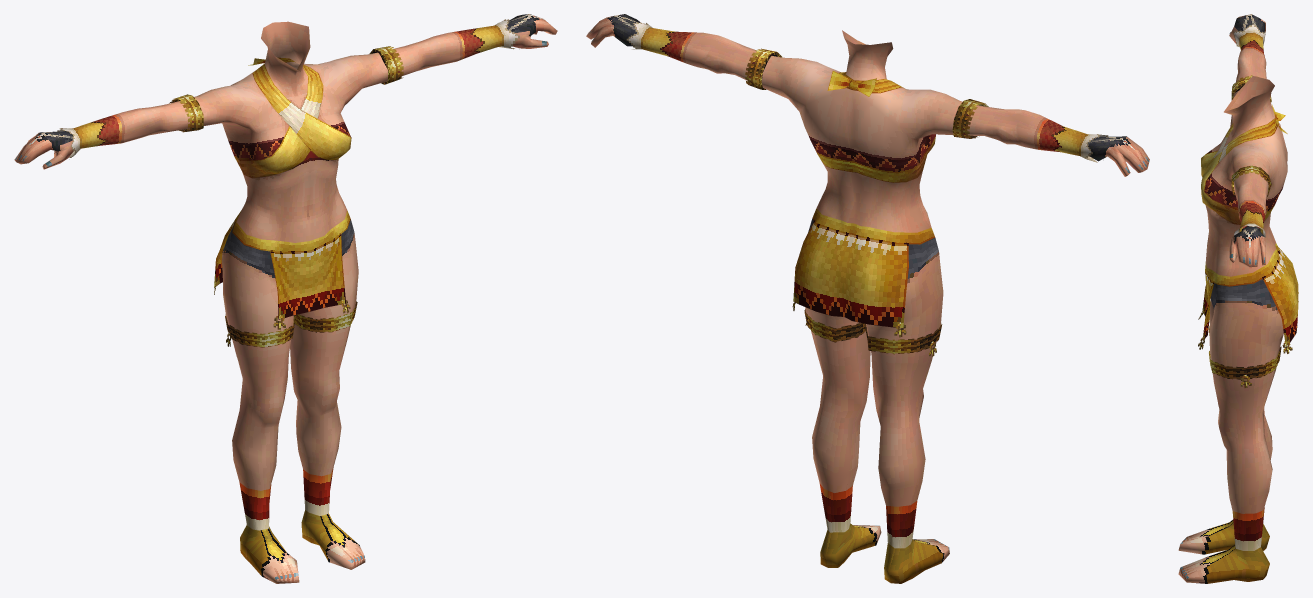
The model's file is f_body010.obj.
3 renders of one model, left to right at view 1: azimuth 30°, elevation 25°; view 2: azimuth 150°, elevation 25°; view 3: azimuth 270°, elevation 25°, orthographic. The views are drawn at different scales.
Visible parts, largest first — view 1: editpl_f-0000-56, editpl_f-0000-55, editpl_f-0000-54; view 2: editpl_f-0000-56, editpl_f-0000-55, editpl_f-0000-54; view 3: editpl_f-0000-56, editpl_f-0000-55, editpl_f-0000-54.
Boxes of the visible parts, box(x1,y1,x2,y2) form: editpl_f-0000-56: box(214, 210, 365, 583); editpl_f-0000-55: box(194, 21, 387, 242); editpl_f-0000-54: box(14, 14, 557, 169); editpl_f-0000-56: box(792, 208, 949, 583); editpl_f-0000-55: box(761, 30, 962, 232); editpl_f-0000-54: box(586, 14, 1149, 176); editpl_f-0000-56: box(1178, 243, 1298, 583); editpl_f-0000-55: box(1201, 76, 1287, 276); editpl_f-0000-54: box(1229, 14, 1271, 267).
Bounding box in the file's own units: 173 × 159 × 36.19.
Materials: 3 (3 with a texture image).
